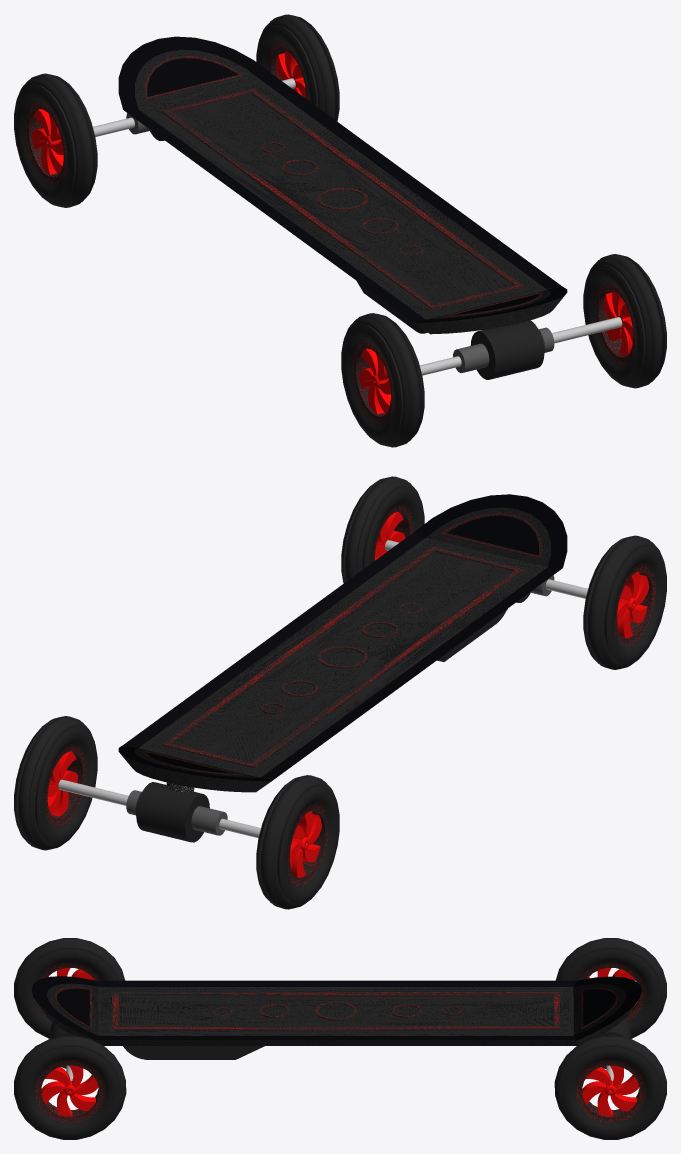
The picture shows the model from 3 angles, top to bottom: view 1: azimuth 30°, elevation 25°; view 2: azimuth 150°, elevation 25°; view 3: azimuth 270°, elevation 25°; orthographic projection. The views are drawn at different scales.
Visible parts, largest first — view 1: mesh13_mesh13-geometry, mesh71_mesh71-geometry, mesh39_mesh39-geometry, mesh23_mesh23-geometry, mesh55_mesh55-geometry, mesh7_mesh7-geometry, mesh11_mesh11-geometry, mesh70_mesh70-geometry, mesh38_mesh38-geometry, mesh22_mesh22-geometry, mesh5_mesh5-geometry, mesh54_mesh54-geometry; view 2: mesh13_mesh13-geometry, mesh39_mesh39-geometry, mesh71_mesh71-geometry, mesh55_mesh55-geometry, mesh23_mesh23-geometry, mesh1_mesh1-geometry, mesh5_mesh5-geometry, mesh38_mesh38-geometry, mesh70_mesh70-geometry, mesh54_mesh54-geometry, mesh11_mesh11-geometry, mesh22_mesh22-geometry; view 3: mesh13_mesh13-geometry, mesh23_mesh23-geometry, mesh55_mesh55-geometry, mesh71_mesh71-geometry, mesh39_mesh39-geometry, mesh22_mesh22-geometry, mesh54_mesh54-geometry, mesh1_mesh1-geometry.
Part boxes in pixels (x1,y1,x2,y2): mesh13_mesh13-geometry: (118,36,567,334); mesh71_mesh71-geometry: (14,73,97,207); mesh39_mesh39-geometry: (341,313,424,447); mesh23_mesh23-geometry: (583,254,666,388); mesh55_mesh55-geometry: (256,14,339,121); mesh7_mesh7-geometry: (470,320,544,379); mesh11_mesh11-geometry: (419,317,622,375); mesh70_mesh70-geometry: (31,109,63,174); mesh38_mesh38-geometry: (359,348,390,414); mesh22_mesh22-geometry: (602,290,633,356); mesh5_mesh5-geometry: (93,78,295,136); mesh54_mesh54-geometry: (275,51,305,98); mesh13_mesh13-geometry: (118,494,567,792); mesh39_mesh39-geometry: (583,535,666,669); mesh71_mesh71-geometry: (256,775,339,909); mesh55_mesh55-geometry: (14,716,97,850); mesh23_mesh23-geometry: (341,476,424,583); mesh1_mesh1-geometry: (135,782,209,842); mesh5_mesh5-geometry: (58,779,260,838); mesh38_mesh38-geometry: (617,571,649,638); mesh70_mesh70-geometry: (290,811,321,877); mesh54_mesh54-geometry: (47,751,78,816); mesh11_mesh11-geometry: (385,540,587,598); mesh22_mesh22-geometry: (375,512,405,560); mesh13_mesh13-geometry: (31,976,641,1059); mesh23_mesh23-geometry: (14,1035,126,1139); mesh55_mesh55-geometry: (554,1035,666,1139); mesh71_mesh71-geometry: (555,938,666,1038); mesh39_mesh39-geometry: (14,938,125,1038); mesh22_mesh22-geometry: (41,1065,98,1116); mesh54_mesh54-geometry: (582,1065,639,1116); mesh1_mesh1-geometry: (598,1018,631,1068).
Size of the model in its own units: 0.3612 by 0.1579 by 0.919.
